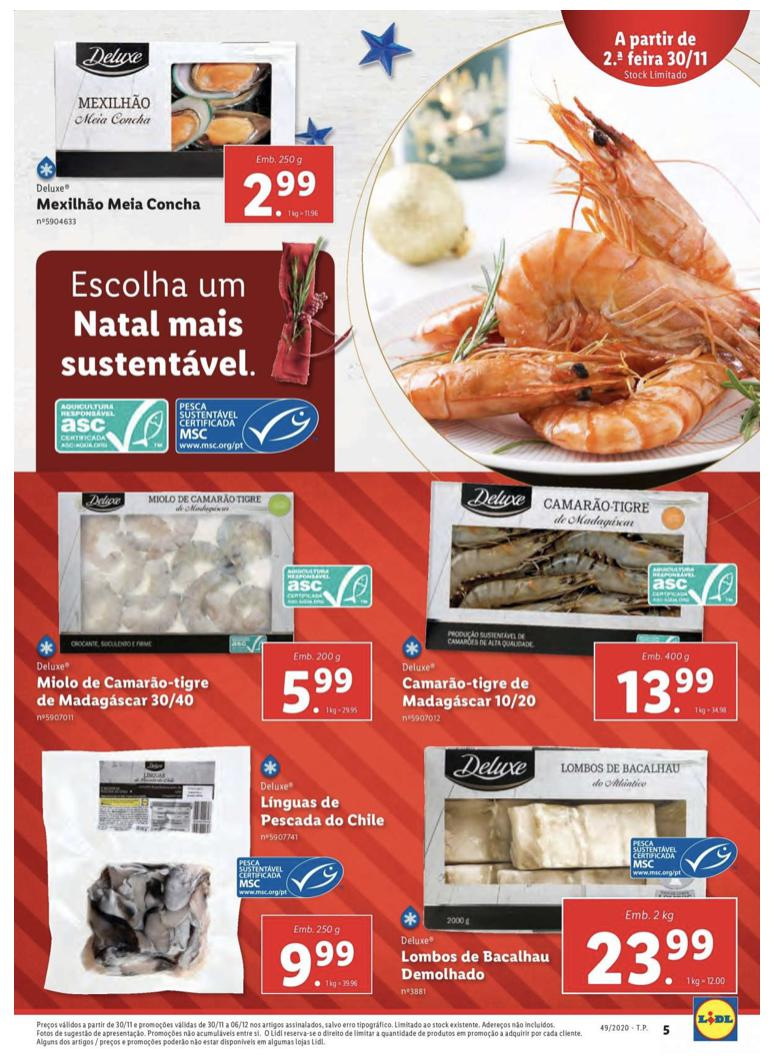name: (33, 671, 216, 711), (398, 671, 544, 715), (399, 946, 555, 987), (254, 791, 391, 834), (37, 191, 209, 213)
price: (558, 896, 740, 996), (590, 645, 741, 720), (257, 915, 374, 995), (265, 644, 373, 723), (223, 146, 333, 223)
product: (394, 730, 748, 995), (29, 738, 394, 995), (391, 474, 755, 727), (23, 480, 391, 727), (36, 24, 345, 233)
